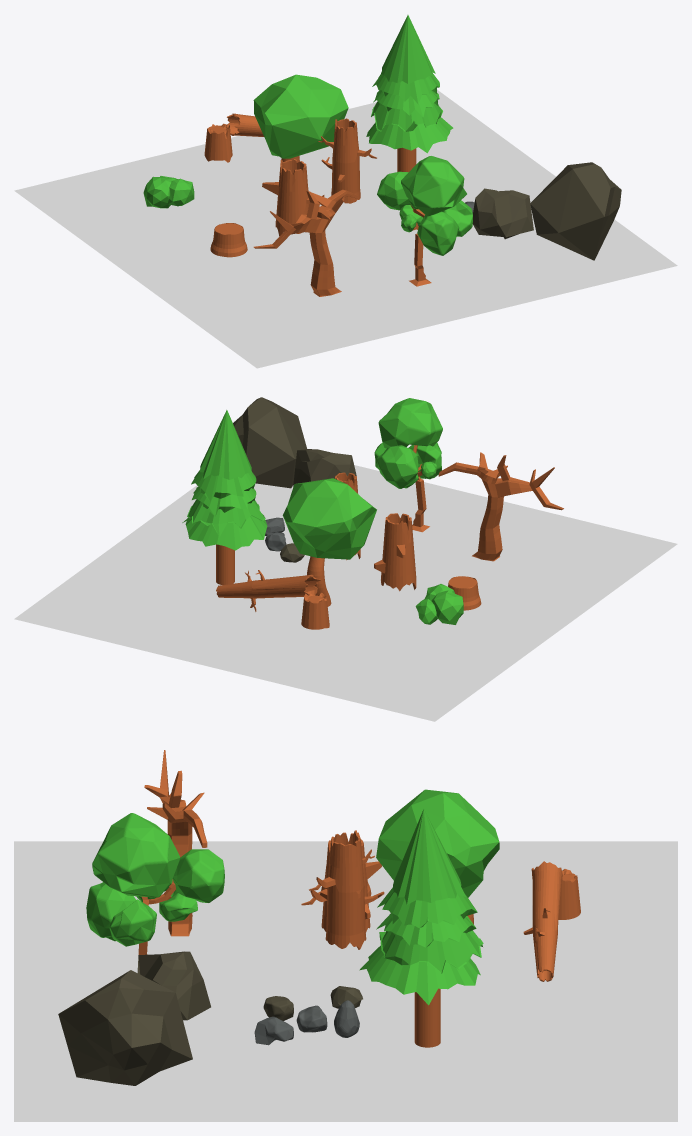
The model's file is Nature.fbx.
3 renders of one model, top to bottom at view 1: azimuth 30°, elevation 25°; view 2: azimuth 150°, elevation 25°; view 3: azimuth 270°, elevation 25°, orthographic. The views are drawn at different scales.
Parts seen in each view (by area): view 1: Plane, Big Rocks, Leaves, SMall Tree leaves, Basic Trunck, Trunk 4, Cone.004, Trunk 2, Cone.001, Bush 1, Cone.002, Trunk 0 (+5 smaller); view 2: Plane, Big Rocks, SMall Tree leaves, Leaves, Basic Trunck, Trunk 2, Cone.004, Trunk long, Cone.001, Bush 1, Cone.002, Cone.000 (+6 smaller); view 3: Plane, Big Rocks, Leaves, SMall Tree leaves, Trunk 4, Cone.004, Cone.001, Trunk long, Basic Trunck, Cone.002, Cone.000, Cone.003 (+7 smaller).
Part boxes in pixels (box(x1,y1,x2,y2)): Plane: box(14, 89, 677, 368); Big Rocks: box(472, 162, 621, 260); Leaves: box(377, 156, 472, 255); SMall Tree leaves: box(253, 74, 348, 158); Basic Trunck: box(253, 189, 357, 296); Trunk 4: box(318, 118, 376, 203); Cone.004: box(381, 15, 435, 83); Trunk 2: box(262, 159, 324, 236); Cone.001: box(366, 117, 453, 153); Bush 1: box(143, 176, 194, 208); Cone.002: box(371, 101, 442, 131); Trunk 0: box(210, 223, 247, 257); Plane: box(14, 465, 677, 721); Big Rocks: box(233, 397, 356, 488); SMall Tree leaves: box(282, 478, 376, 559); Leaves: box(374, 398, 442, 488); Basic Trunck: box(438, 452, 563, 561); Trunk 2: box(374, 513, 416, 591); Cone.004: box(199, 410, 251, 479); Trunk long: box(216, 570, 320, 611); Cone.001: box(182, 514, 267, 550); Bush 1: box(415, 584, 463, 624); Cone.002: box(187, 499, 265, 536); Cone.000: box(191, 470, 256, 501); Plane: box(14, 841, 677, 1121); Big Rocks: box(58, 951, 210, 1085); Leaves: box(86, 813, 224, 946); SMall Tree leaves: box(376, 789, 499, 897); Trunk 4: box(309, 830, 384, 949); Cone.004: box(393, 809, 465, 904); Cone.001: box(359, 945, 480, 1005); Trunk long: box(523, 861, 562, 981); Basic Trunck: box(144, 750, 207, 936); Cone.002: box(379, 930, 483, 973); Cone.000: box(377, 887, 477, 928); Cone.003: box(376, 913, 476, 947).
Bounding box in the file's own units: 4000 × 1619 × 4000.
